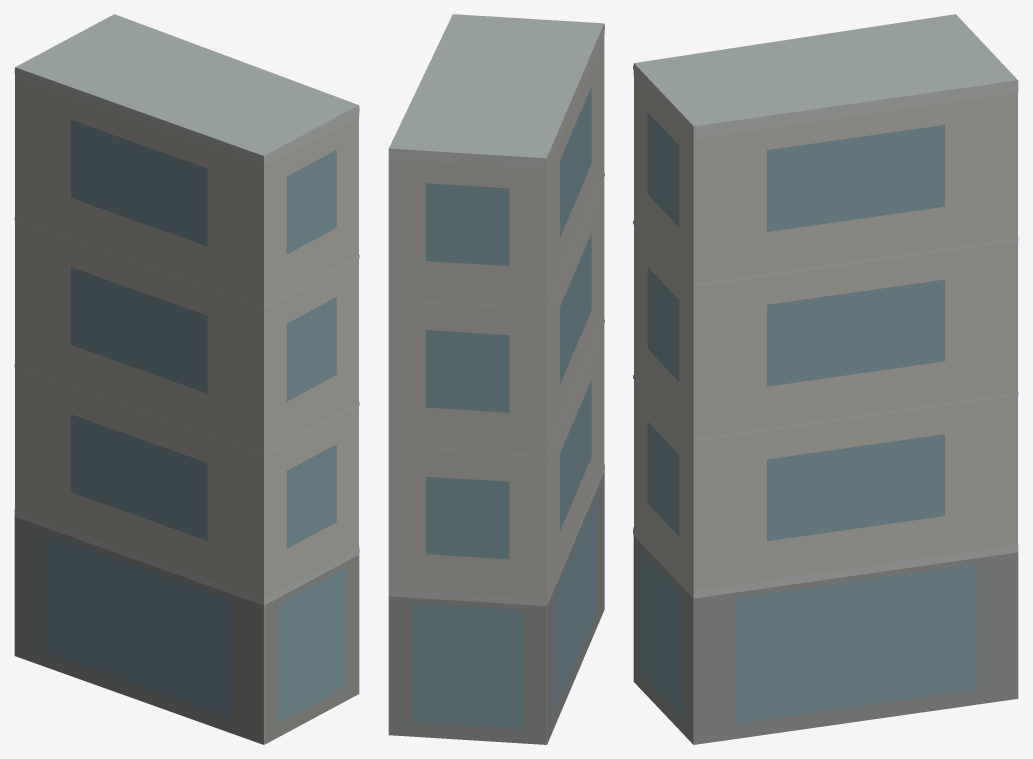
File: survey-upis-32648365.glb
3 views of the same model, side by side, from view 1: azimuth 30°, elevation 25°; view 2: azimuth 150°, elevation 25°; view 3: azimuth 270°, elevation 25° (orthographic). The views are drawn at different scales.
Visible parts, largest first — view 1: survey-upis-32648365.tmp; view 2: survey-upis-32648365.tmp; view 3: survey-upis-32648365.tmp.
Part boxes in pixels (x1,y1,x2,y2): survey-upis-32648365.tmp: (14, 14, 359, 744); survey-upis-32648365.tmp: (388, 14, 604, 744); survey-upis-32648365.tmp: (633, 14, 1018, 744).
Size of the model in its own units: 4.78 by 12.2 by 6.9.
